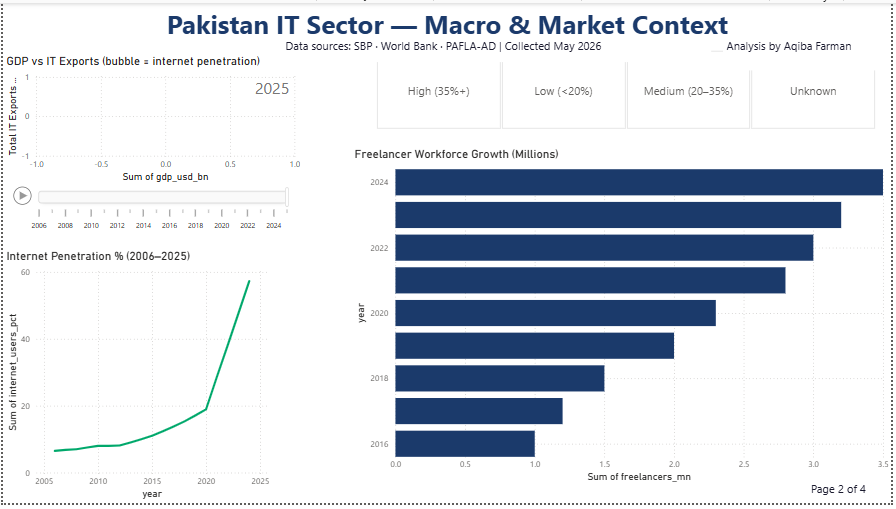

The page's visual inventory and layout, read from the dashboard file:
{"tool":"powerbi","page":{"name":"Market Context","canvas":[1280,720],"ordinal":1},"visuals":[{"type":"textbox","box":[0,0,1280,73.9],"z":0},{"type":"scatterChart","title":"GDP vs IT Exports (bubble = internet penetration)","fields":{"X":["Sum(FactITExports.gdp_usd_bn)"],"Y":["FactITExports.Total IT Exports (USD Mn)"],"Size":["Sum(FactITExports.internet_users_pct)"],"Play":["FactITExports.year"]},"box":[0,73.9,432.8,269.6],"z":1000},{"type":"lineChart","title":"Internet Penetration % (2006–2025)","fields":{"Category":["FactITExports.year"],"Y":["Sum(FactITExports.internet_users_pct)"]},"box":[0,354.3,388.2,365.1],"z":2000},{"type":"clusteredBarChart","title":"Freelancer Workforce Growth (Millions)","fields":{"Category":["FactITExports.year"],"Y":["Sum(FactITExports.freelancers_mn)"]},"box":[501.1,207.4,779,488.2],"z":3000},{"type":"slicer","fields":{"Values":["FactITExports.internet_tier"]},"box":[512.9,61.6,767.1,126.3],"z":4000},{"type":"textbox","box":[1037.1,46.5,240,50.9],"z":4001},{"type":"textbox","box":[401.8,46.1,617.8,38.9],"z":4002},{"type":"textbox","box":[1129,684,148.3,36],"z":4003}]}

Visuals, with their boxes in screenshot pixels (x1, y1, x2, y2), scaled from the page's 1280x720 canvas onto the 896x509 screenshot:
textbox: [left=0, top=0, right=895, bottom=52]
"GDP vs IT Exports (bubble = internet penetration)" scatterChart: [left=0, top=52, right=303, bottom=243]
"Internet Penetration % (2006–2025)" lineChart: [left=0, top=250, right=272, bottom=508]
"Freelancer Workforce Growth (Millions)" clusteredBarChart: [left=351, top=147, right=895, bottom=492]
slicer - FactITExports.internet_tier: [left=359, top=44, right=895, bottom=133]
textbox: [left=726, top=33, right=894, bottom=69]
textbox: [left=281, top=33, right=714, bottom=60]
textbox: [left=790, top=484, right=894, bottom=508]
